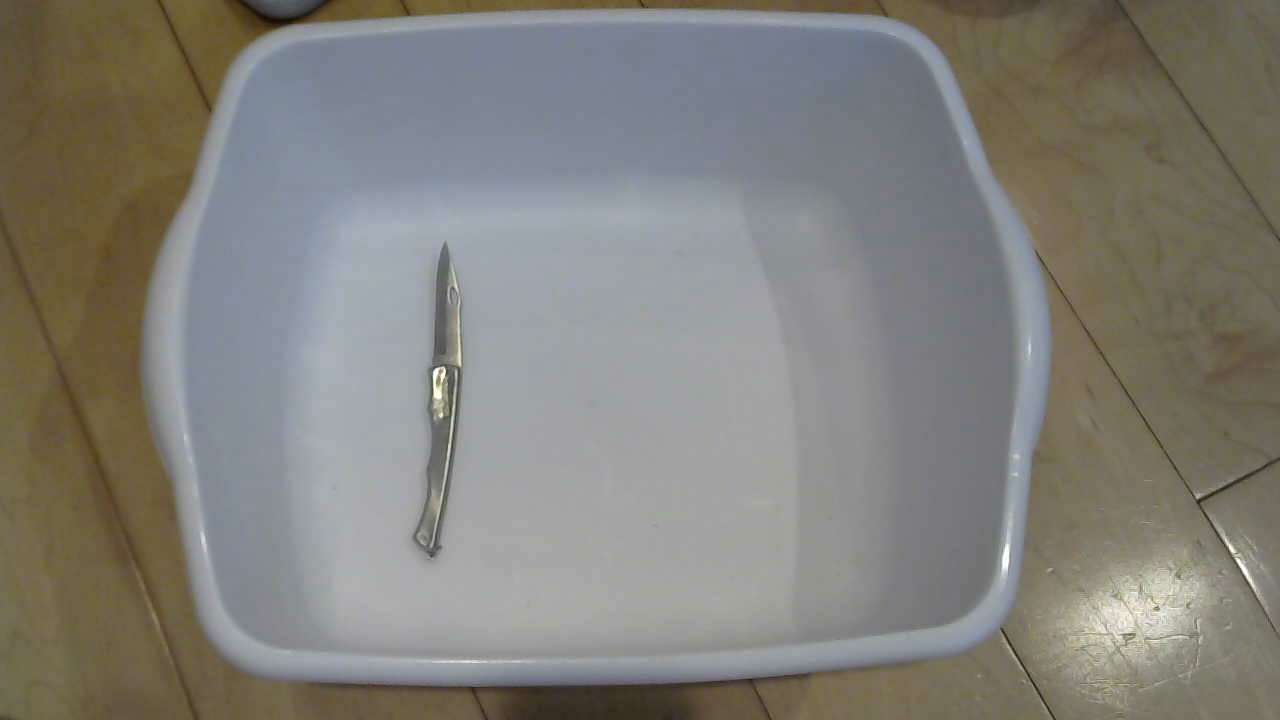knife: (402, 238, 478, 571)
